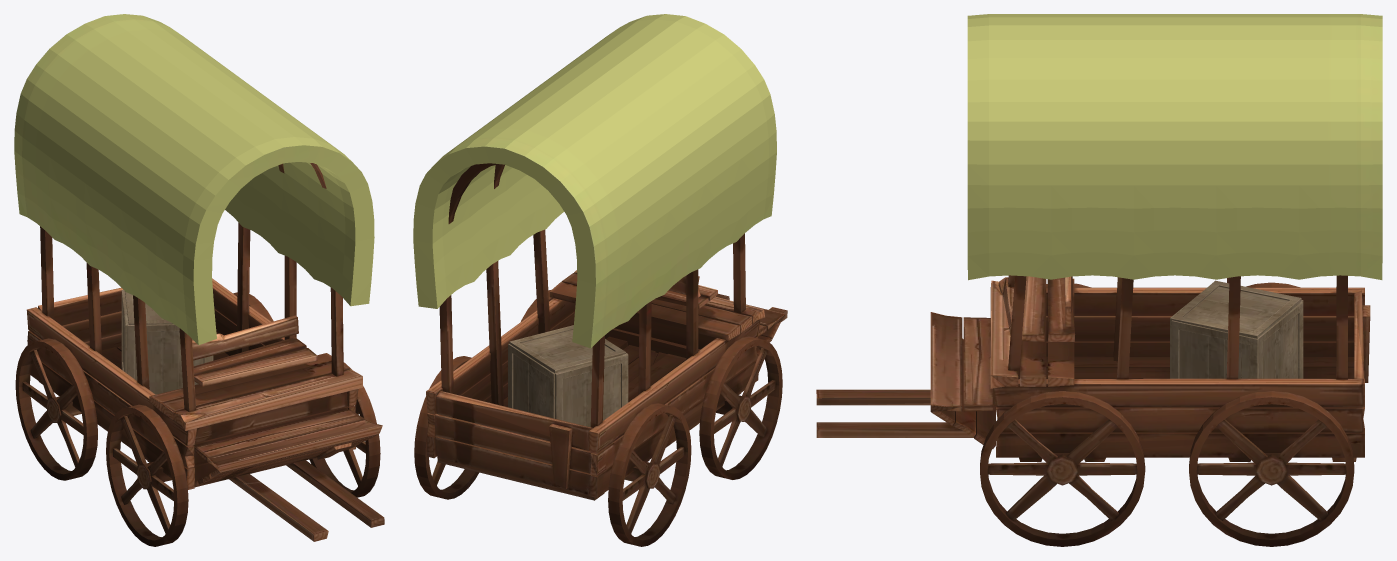
3 views of the same model, side by side, from view 1: azimuth 30°, elevation 25°; view 2: azimuth 150°, elevation 25°; view 3: azimuth 270°, elevation 25° (orthographic). The views are drawn at different scales.
Parts seen in each view (by area): view 1: slot_canvas_top, slot_anchor_frame, slot_front_wheels, slot_bed_barrel; view 2: slot_canvas_top, slot_anchor_frame, slot_bed_barrel, slot_front_wheels; view 3: slot_canvas_top, slot_anchor_frame, slot_front_wheels, slot_bed_barrel.
Boxes of the visible parts, left/top/right/bottom form: slot_canvas_top: left=14, top=14, right=374, bottom=344; slot_anchor_frame: left=15, top=163, right=384, bottom=541; slot_front_wheels: left=106, top=362, right=380, bottom=546; slot_bed_barrel: left=121, top=290, right=213, bottom=394; slot_canvas_top: left=413, top=14, right=776, bottom=348; slot_anchor_frame: left=414, top=163, right=787, bottom=546; slot_bed_barrel: left=508, top=325, right=628, bottom=427; slot_front_wheels: left=521, top=290, right=782, bottom=479; slot_canvas_top: left=967, top=14, right=1382, bottom=280; slot_anchor_frame: left=816, top=275, right=1370, bottom=546; slot_front_wheels: left=980, top=283, right=1145, bottom=546; slot_bed_barrel: left=1170, top=280, right=1303, bottom=378.
Size of the model in its own units: 0.9611 by 1.81 by 2.01.
3 materials, 3 textured.
